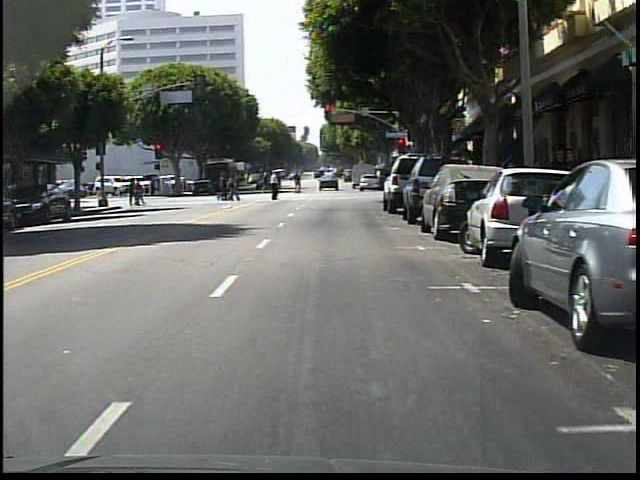person: (264, 168, 285, 206), (289, 168, 306, 198)
